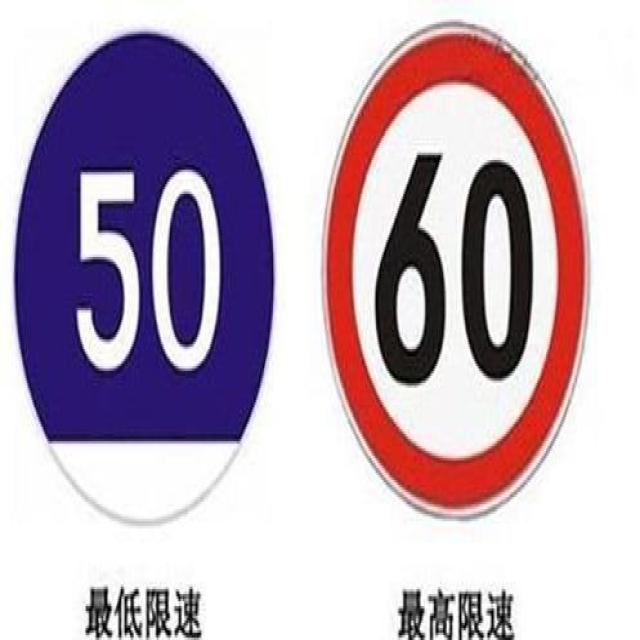speed limit 50: (13, 31, 275, 527)
speed limit 60: (321, 16, 591, 523)
